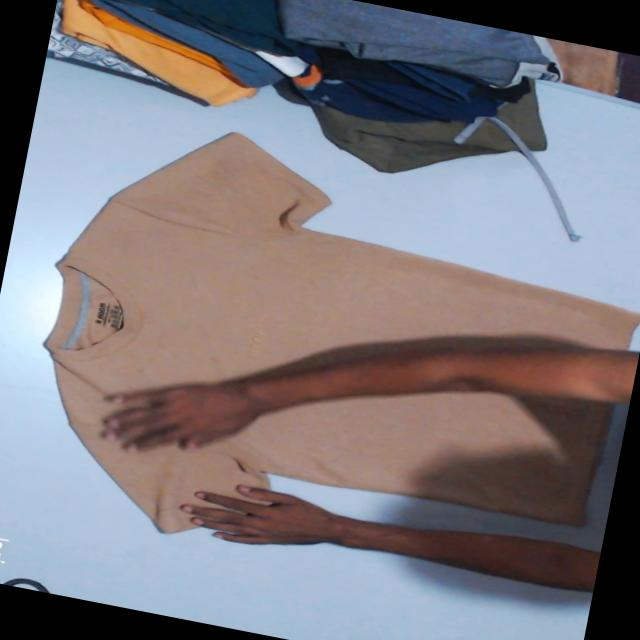new-garment: (46, 134, 640, 533)
